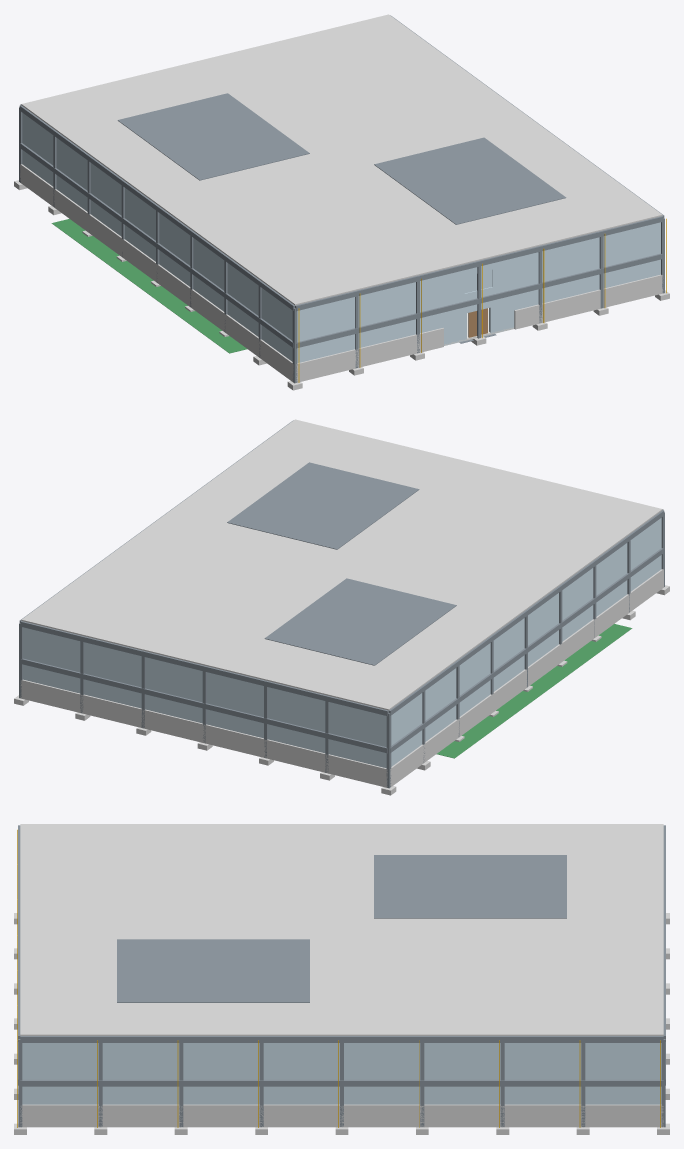
The model's file is generated_building_40.glb.
The picture shows the model from 3 angles, top to bottom: view 1: azimuth 30°, elevation 25°; view 2: azimuth 150°, elevation 25°; view 3: azimuth 270°, elevation 25°; orthographic projection. The views are drawn at different scales.
Parts seen in each view (by area): view 1: architectural, landscape, structural, electrical; view 2: architectural, landscape, structural; view 3: architectural, structural, landscape, electrical.
Part boxes in pixels (x1,y1,x2,y2): architectural: (21, 14, 662, 363); landscape: (20, 164, 663, 382); structural: (14, 15, 669, 390); electrical: (298, 218, 666, 382); architectural: (21, 419, 662, 768); landscape: (20, 569, 663, 787); structural: (14, 420, 669, 795); architectural: (20, 824, 663, 1104); structural: (14, 825, 669, 1134); landscape: (20, 1104, 663, 1127); electrical: (17, 829, 660, 1127).
Size of the model in its own units: 32.9 by 6.74 by 40.8.
